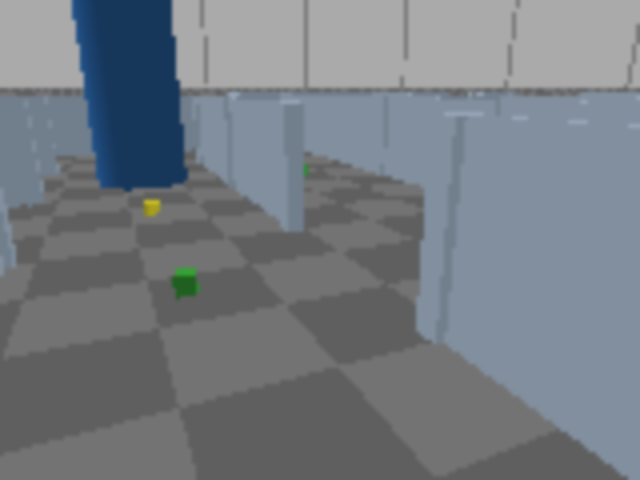puck: (173, 268, 198, 298), (142, 200, 160, 215)
